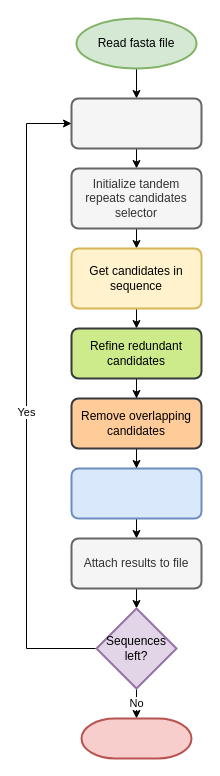
Image size: 220x776. Some labels were removed from this diagram. Here are the shapes that lost their labels. From the top down, the centre of each, then its label:
At point 136,123: "Get current sequence".
At point 136,493: "Allign candidates".
At point 136,738: "End".
